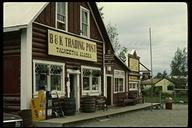house: (4, 1, 148, 123)
sky: (127, 4, 184, 42)
tree: (168, 47, 188, 80)
